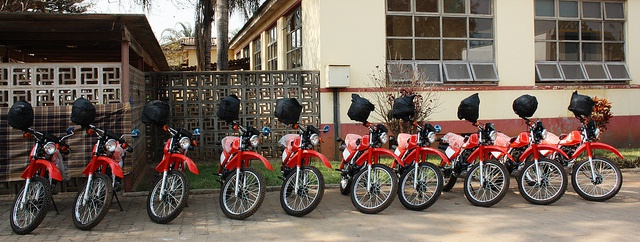non-vehicle: (64, 92, 143, 230), (538, 90, 623, 202), (490, 94, 570, 206), (271, 92, 333, 216), (435, 120, 514, 206), (10, 122, 70, 233), (334, 120, 403, 215), (213, 122, 274, 220), (388, 118, 451, 210), (146, 124, 201, 223)
